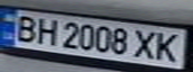0: (93, 24, 115, 54), (78, 21, 96, 52)
2: (57, 19, 81, 51)
8: (112, 25, 133, 56)
B: (9, 12, 42, 43)
H: (33, 16, 60, 46)
K: (151, 29, 187, 64)
X: (130, 27, 160, 61)
